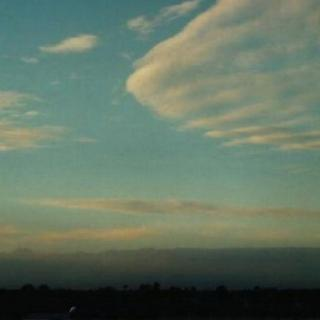Stratocumulus: (0, 1, 320, 292)
